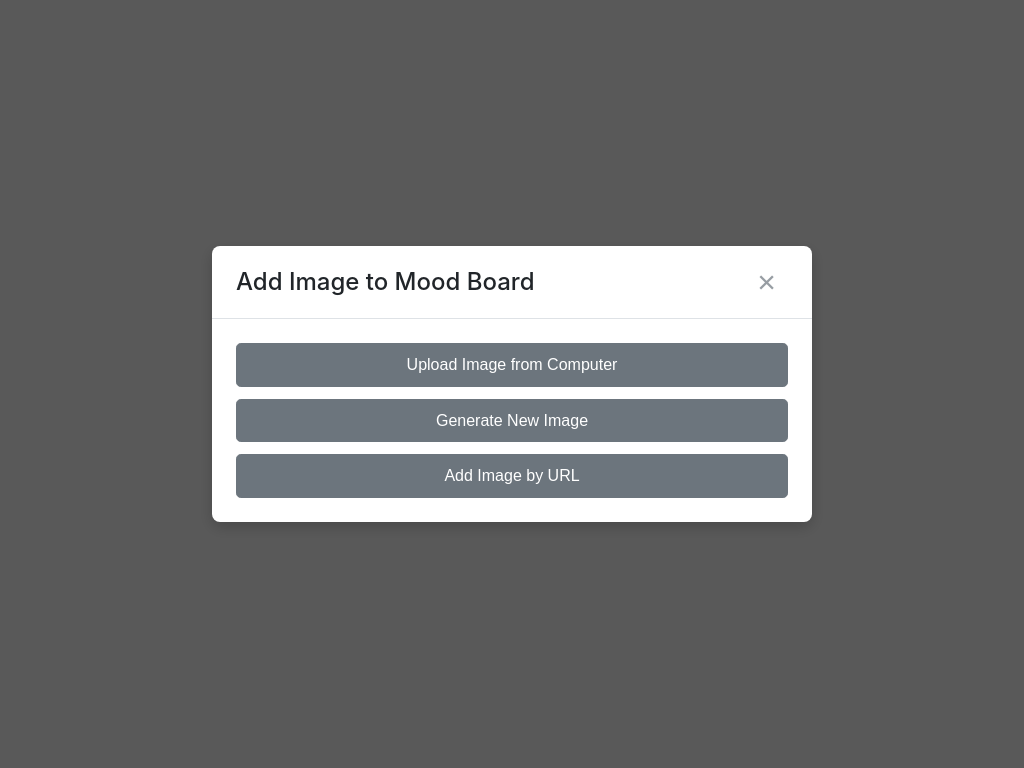
Test case: AddMoodBoardImageModal › "Add Image by URL" flow › navigates back to choice view from URL input view
What coordinates should you click on to do the following:
click the button "Add Image by URL"
I would click on:
 (512, 476)
Its box is [236,454,788,498].
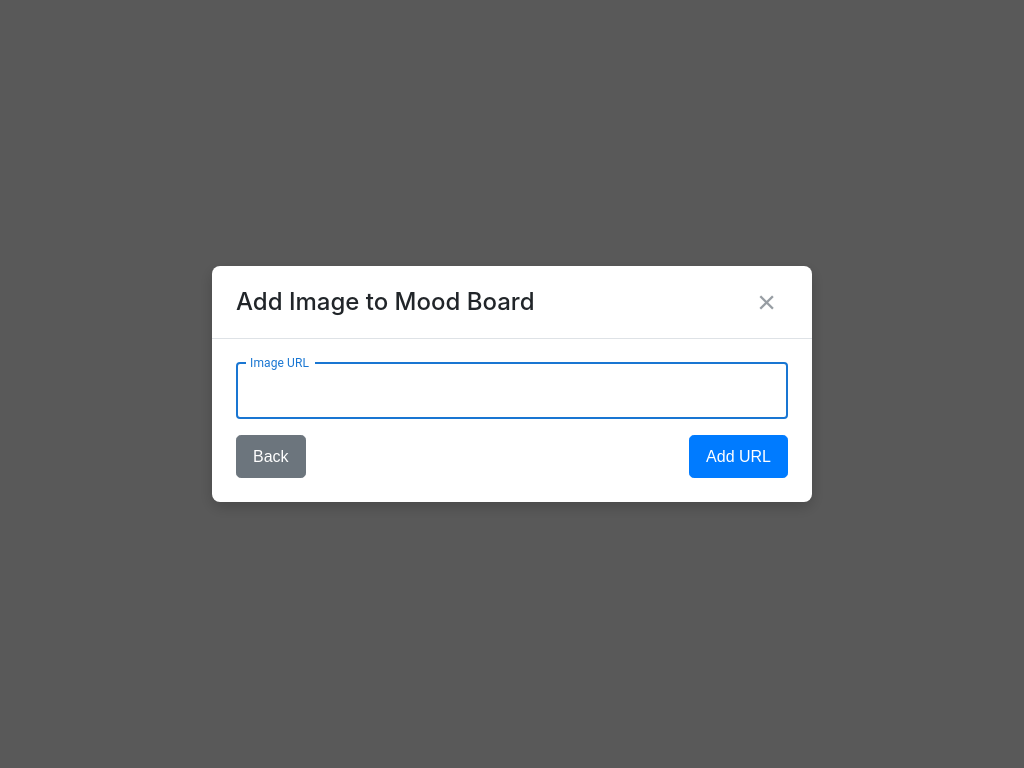
Expected: the field labelled "Image URL" is shown, [236,363,788,419]
What coordinates should you click on to do the following:
click the button "Back"
I would click on:
 (271, 456)
Its box is [236,435,306,478].
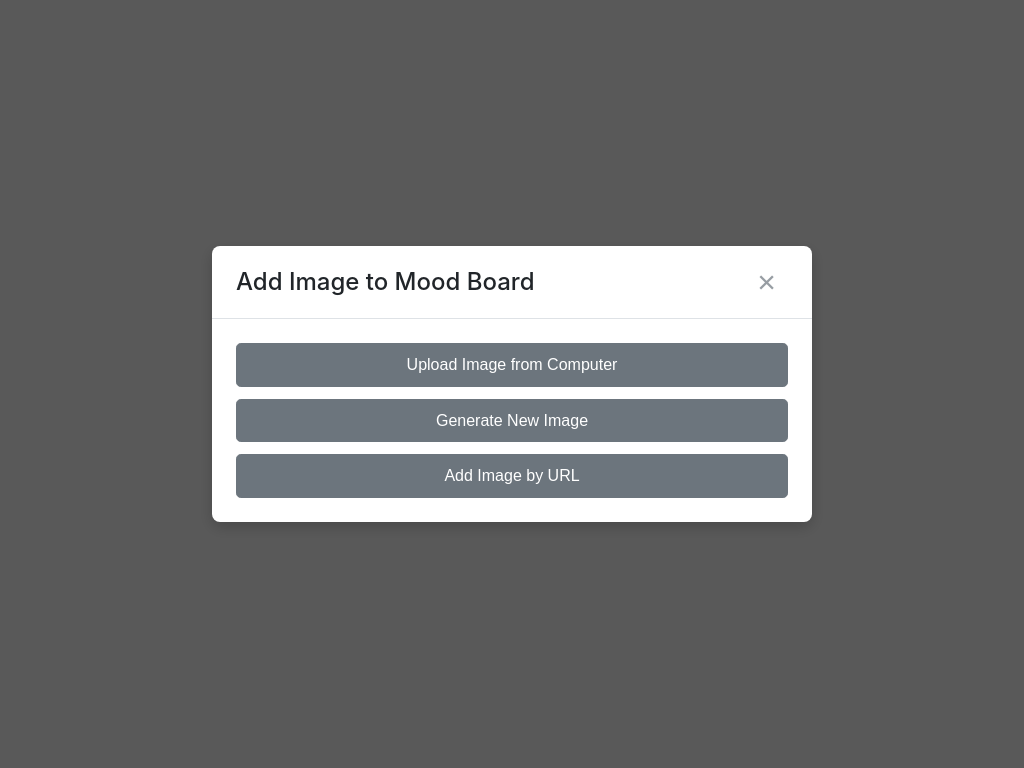
Expected: the button "Upload Image from Computer" is shown, [236,343,788,387]
